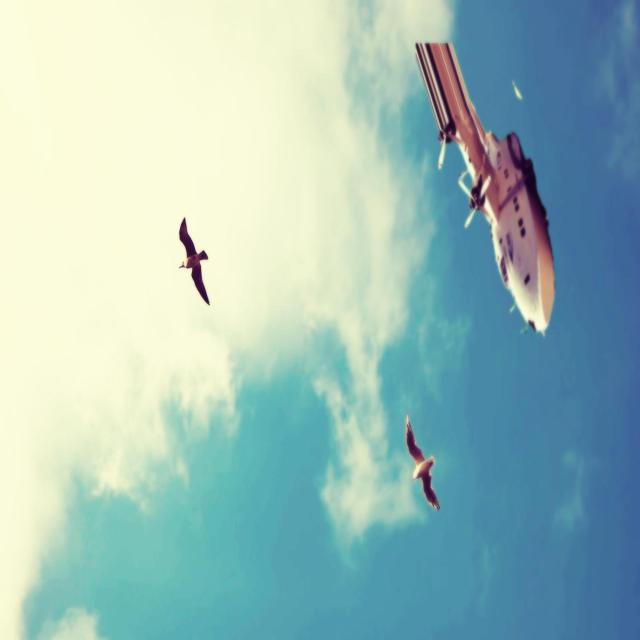airplane: (414, 40, 556, 336)
